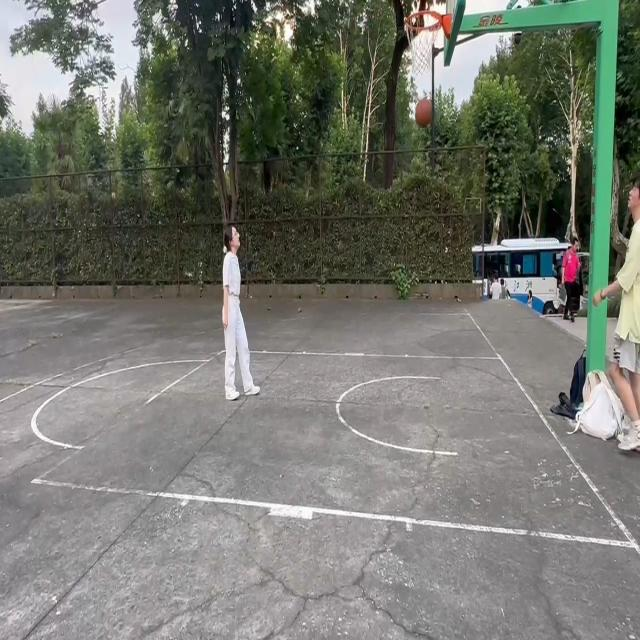basketball: (404, 10, 452, 78)
rim: (416, 97, 433, 126)
